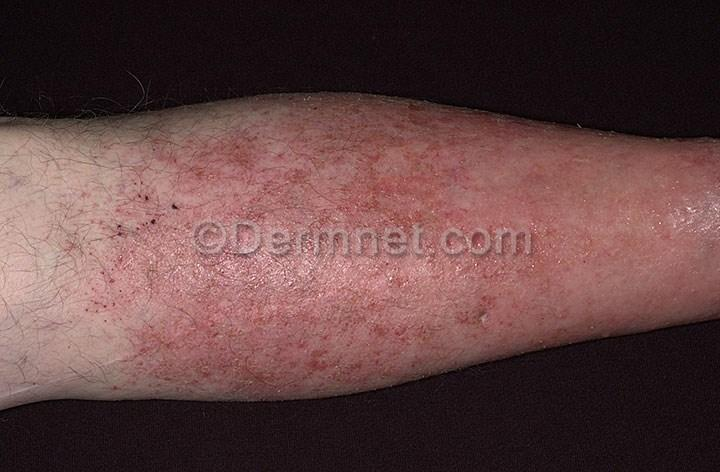Eczema: (104, 123, 396, 387), (395, 124, 644, 342)
